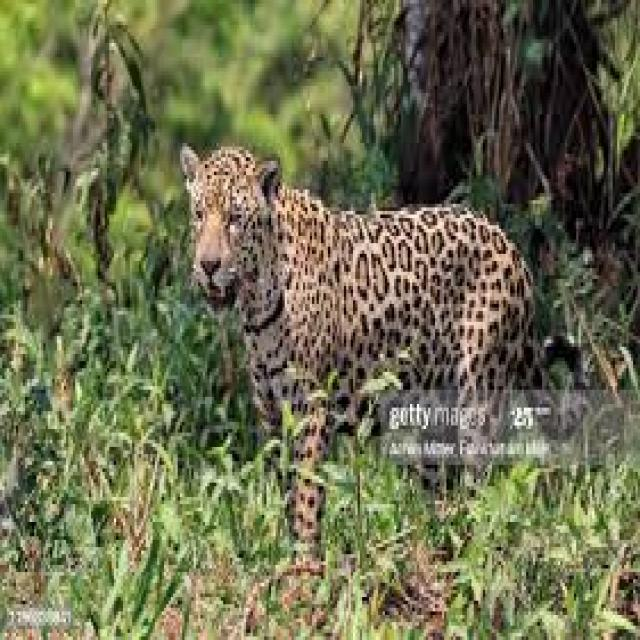Jaguar: (175, 100, 549, 579)
